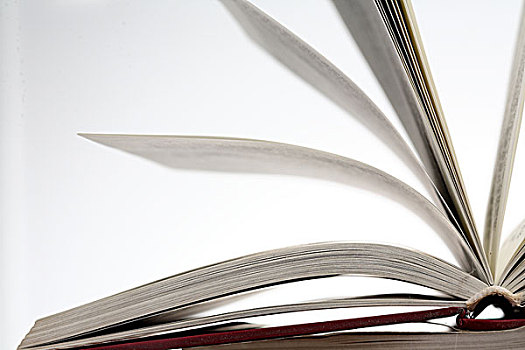book: (24, 2, 525, 346)
